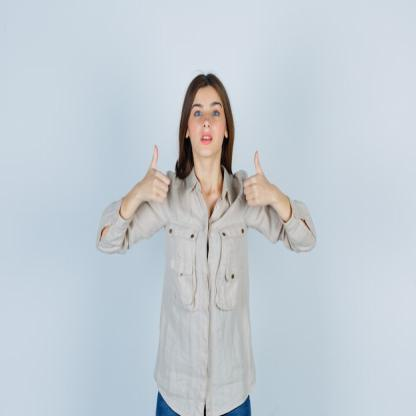thumb_up: (144, 142, 171, 210), (242, 150, 271, 209)
